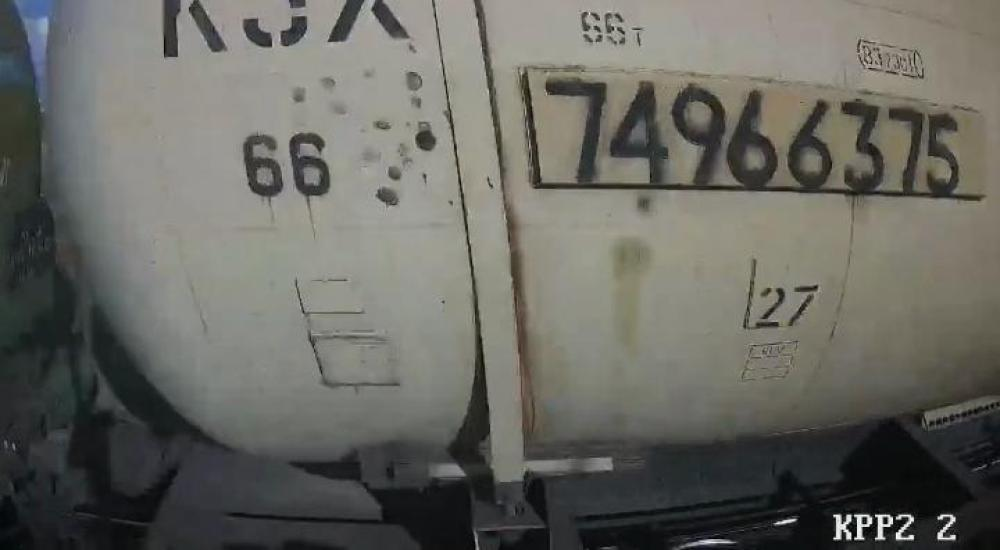Wagon-number: (543, 74, 967, 197)
